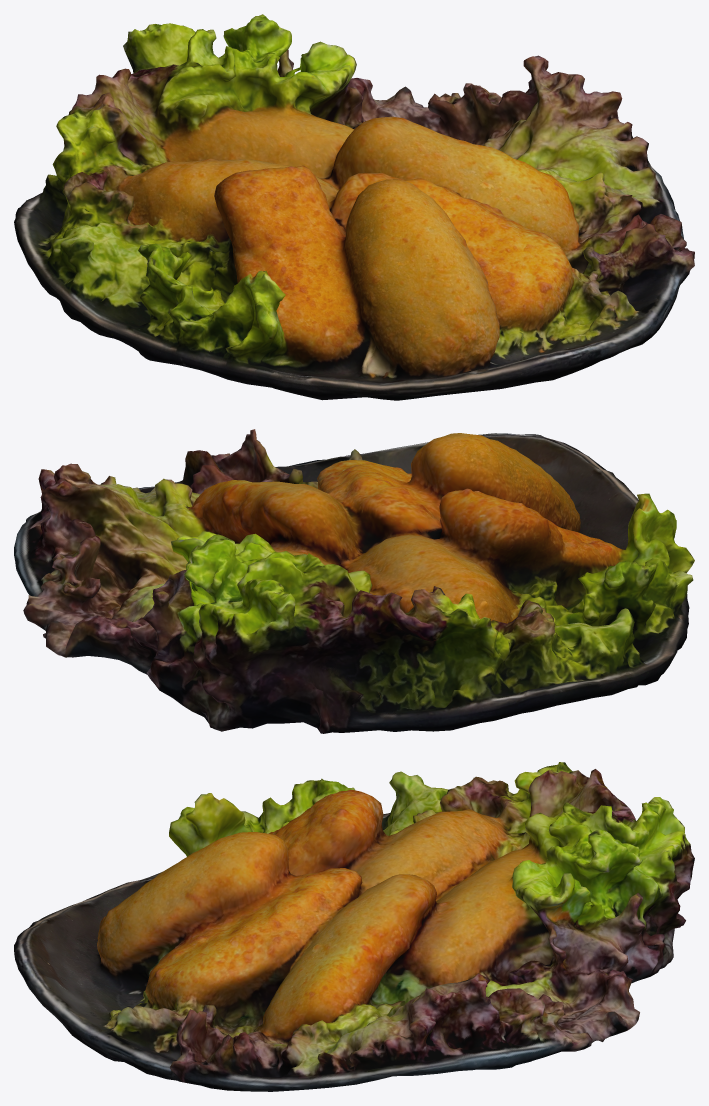
The model's file is hashBrown_1752057967753.glb.
3 views of the same model, one above another, from view 1: azimuth 30°, elevation 25°; view 2: azimuth 150°, elevation 25°; view 3: azimuth 270°, elevation 25° (orthographic). The views are drawn at different scales.
Parts seen in each view (by area): view 1: 3DModel_Custom; view 2: 3DModel_Custom; view 3: 3DModel_Custom.
Boxes of the visible parts, x1,y1,x2,y2 form: 3DModel_Custom: [14, 14, 694, 400]; 3DModel_Custom: [14, 429, 694, 733]; 3DModel_Custom: [14, 762, 694, 1091].
Bounding box in the file's own units: 0.2092 × 0.0615 × 0.2195.
1 material, 1 textured.
